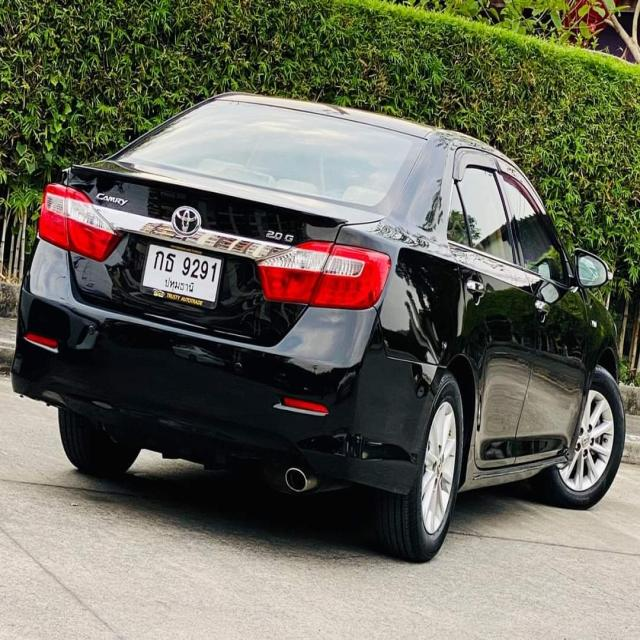license_plate: (138, 239, 225, 316)
